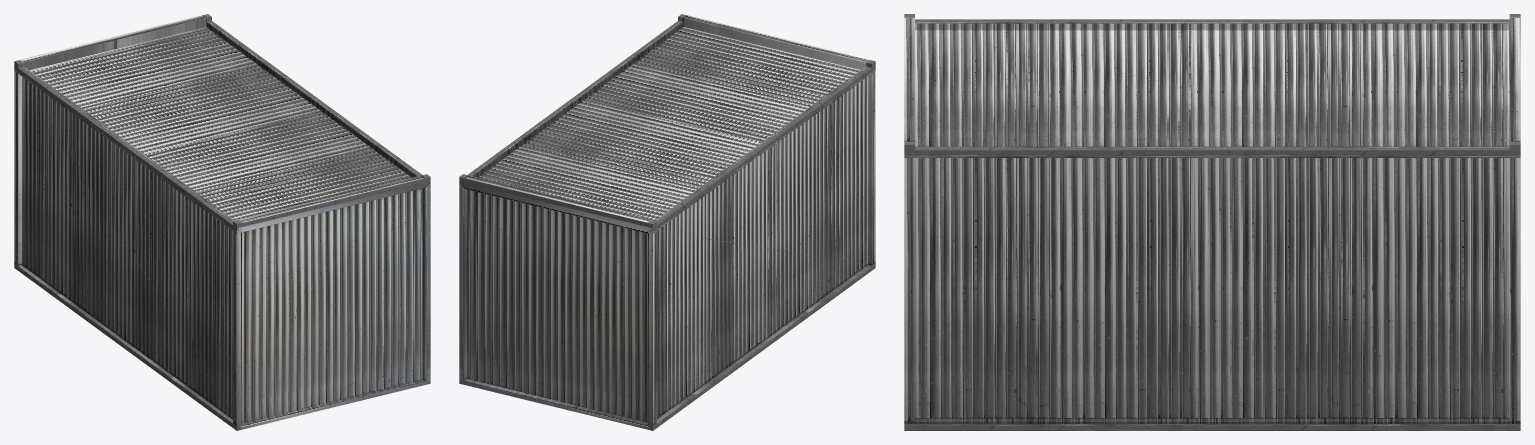
Rendered from container.glb.
3 renders of one model, left to right at view 1: azimuth 30°, elevation 25°; view 2: azimuth 150°, elevation 25°; view 3: azimuth 270°, elevation 25°, orthographic. The views are drawn at different scales.
Visible parts, largest first — view 1: container; view 2: container; view 3: container.
Boxes of the visible parts, left/top/right/bottom form: container: left=14, top=14, right=430, bottom=430; container: left=459, top=14, right=875, bottom=430; container: left=904, top=14, right=1520, bottom=430.
Size of the model in its own units: 8.27 by 8.43 by 16.46.
2 materials, 2 textured.
